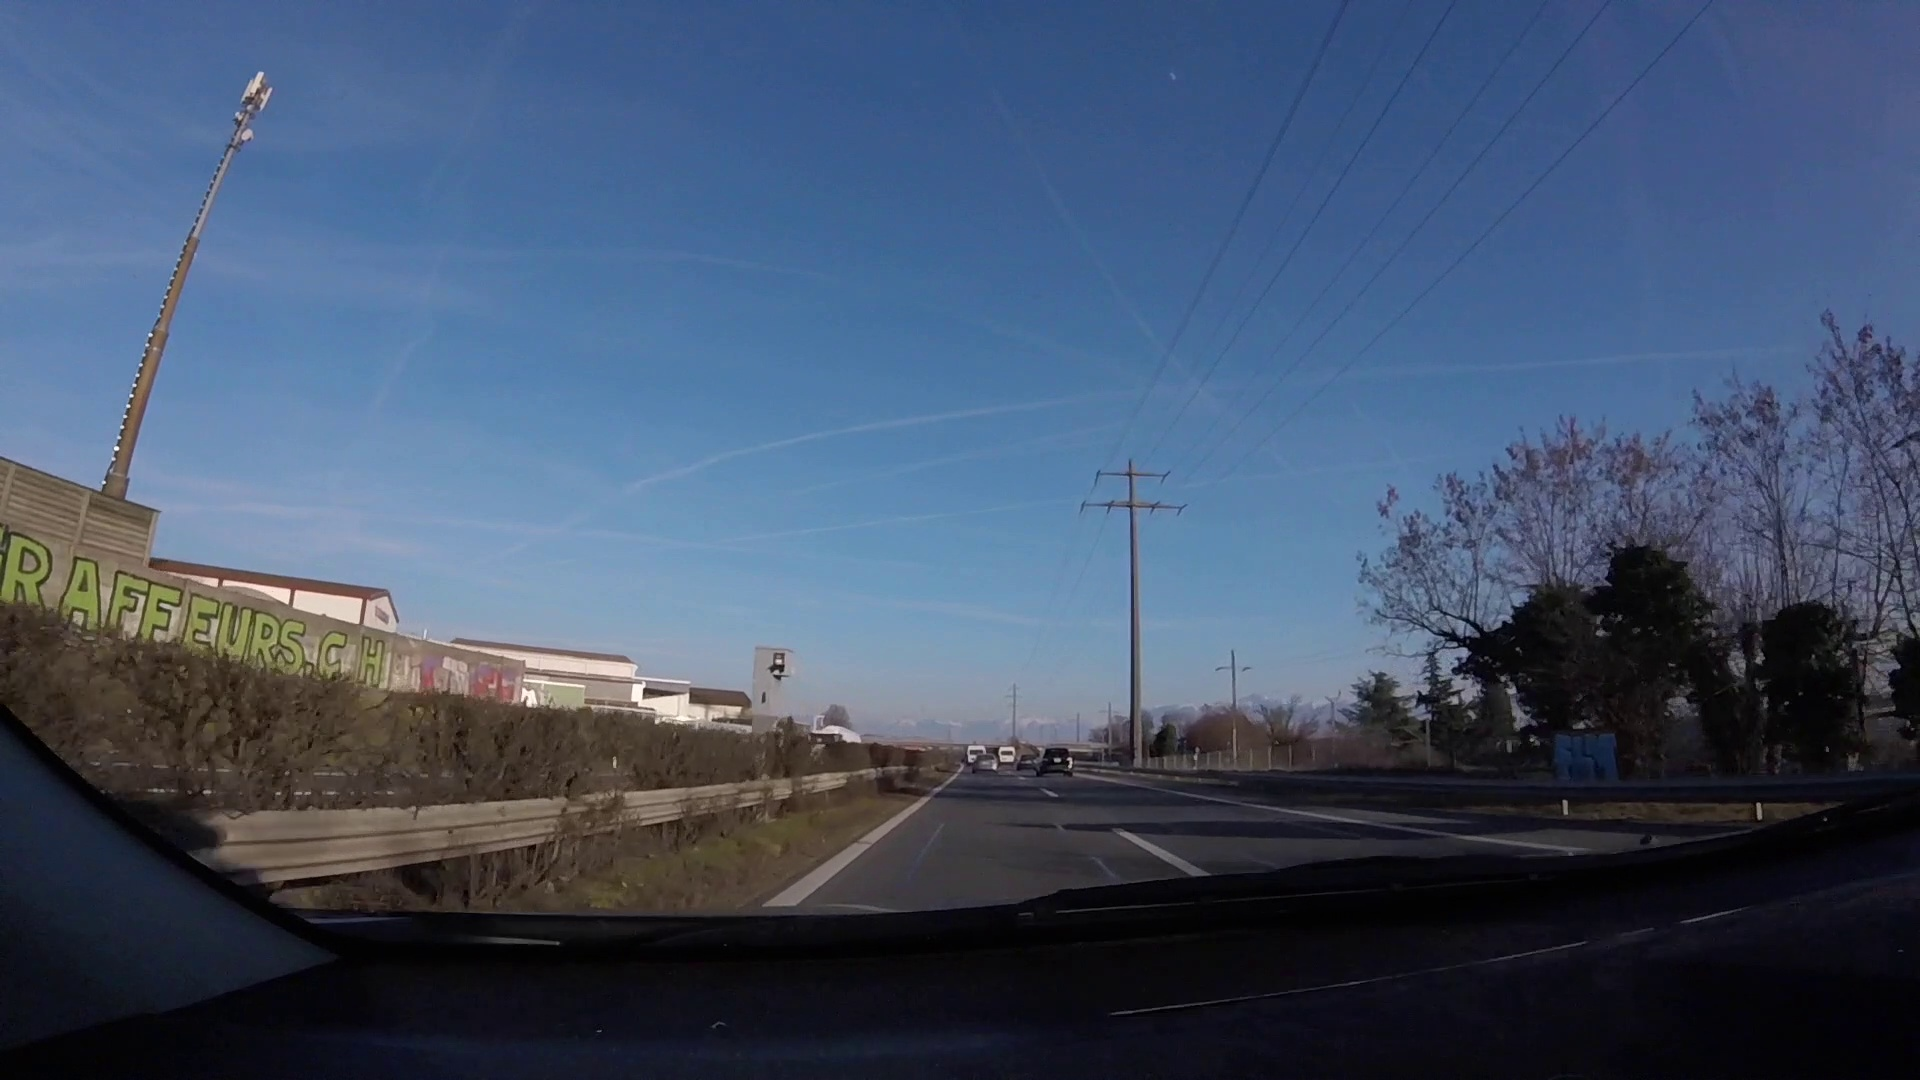radar: (749, 644, 799, 740)
